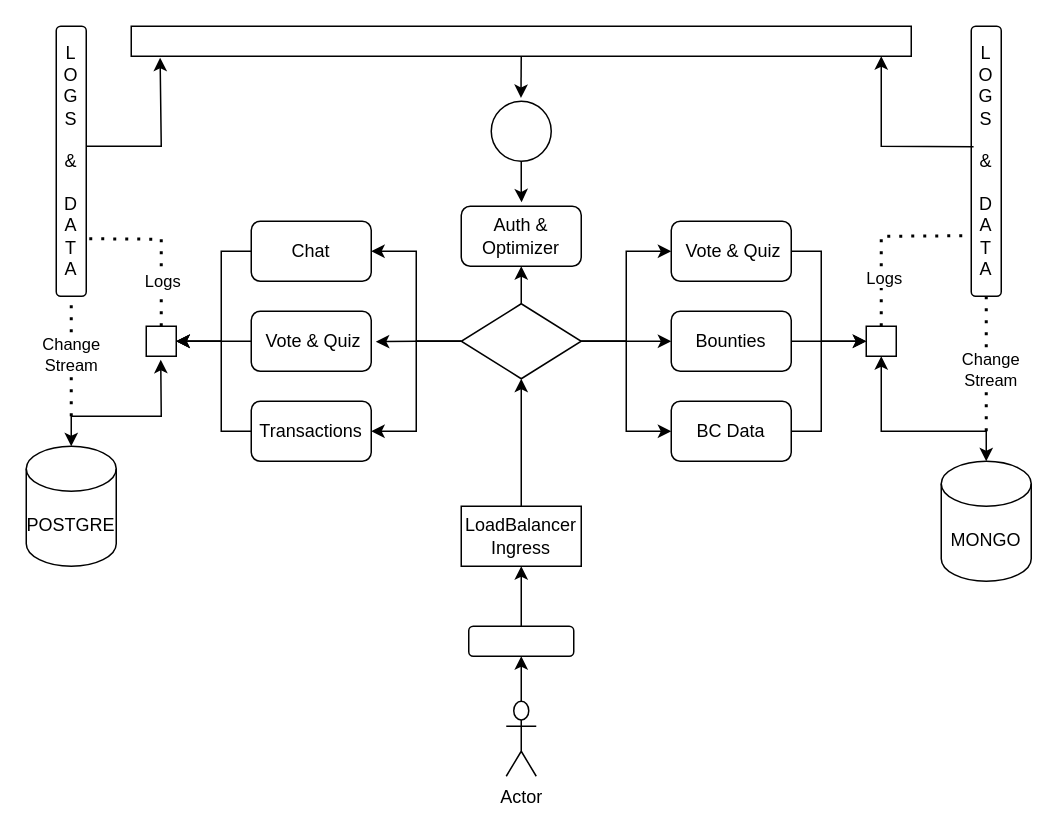
This 1058x834 diagram has some shape labels left out. The shapes that lost their labels are listed below. From the top down, each one's centre as x and y in pixels, then its label:
the point at 520,40: REDPANDA KAFKA BROKERS
the point at 520,130: Redis
the point at 520,340: NGINX
the point at 520,640: FrontEnd
